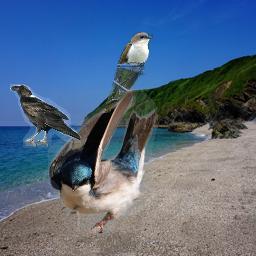Crow: (10, 84, 81, 149)
Cuckoo: (102, 31, 153, 113)
Swallow: (48, 89, 159, 237)
